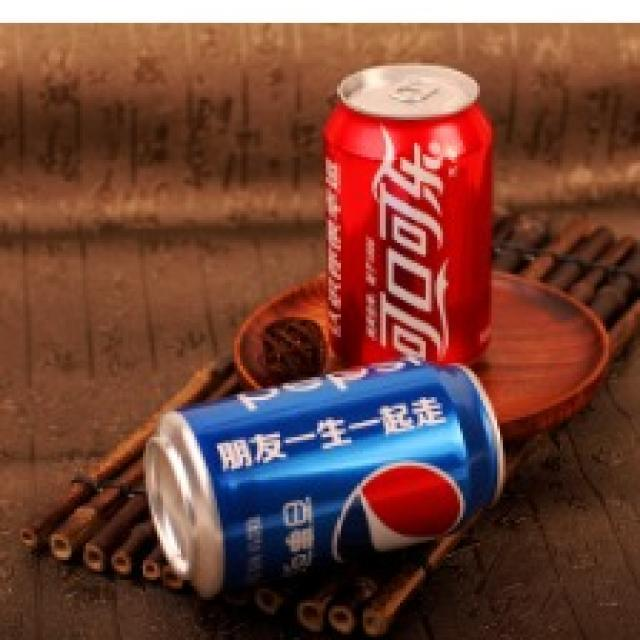metel: (152, 358, 504, 584), (319, 64, 506, 366)
